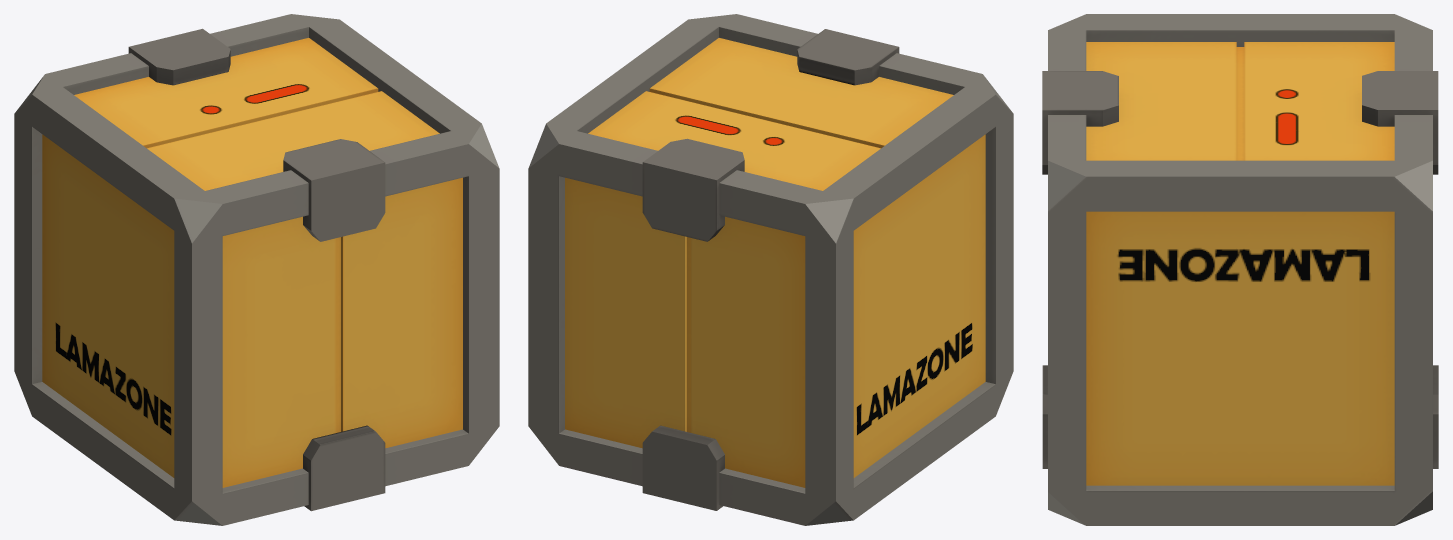
The model's file is crate.fbx.
3 renders of one model, left to right at view 1: azimuth 30°, elevation 25°; view 2: azimuth 150°, elevation 25°; view 3: azimuth 270°, elevation 25°, orthographic. The views are drawn at different scales.
Visible parts, largest first — view 1: crate; view 2: crate; view 3: crate.
Part boxes in pixels (bbox=[...]): crate: bbox=[14, 14, 499, 525]; crate: bbox=[528, 14, 1013, 525]; crate: bbox=[1042, 14, 1438, 525].
Size of the model in its own units: 50 by 51.41 by 51.41.
